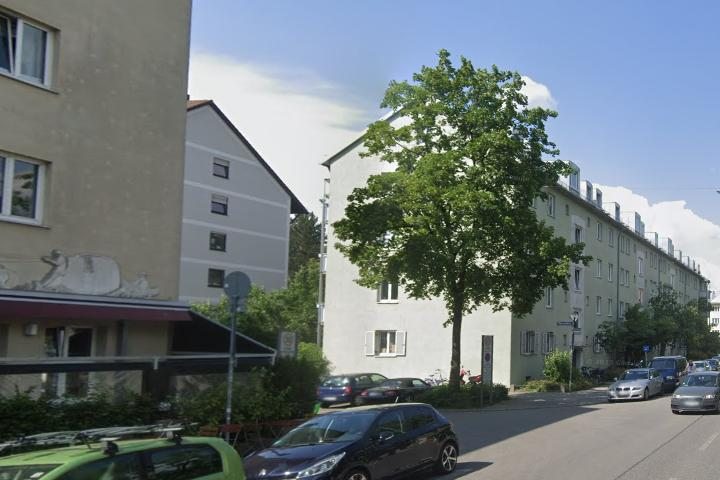vehicle: (235, 400, 475, 480), (314, 368, 402, 409), (354, 375, 446, 407), (602, 361, 667, 404), (670, 370, 720, 416)
